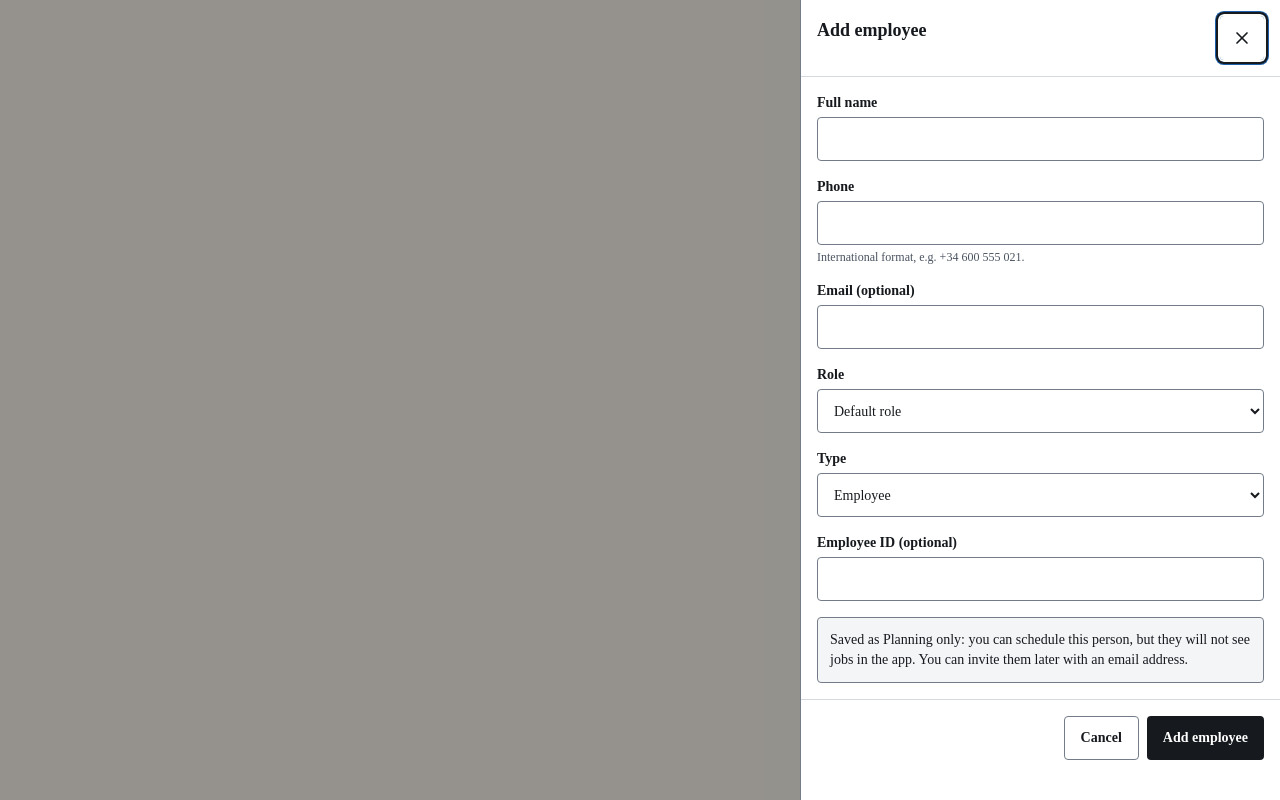
Add / Edit employee drawer: every API field error lands on its field (c769b0c5) › an email the API would refuse is refused before any request
The width and height of the screenshot is (1280, 800).
Type "Ana Pop" into the field labelled "Full name" at (1040, 139), box top-left (817, 117), bottom-right (1264, 161)
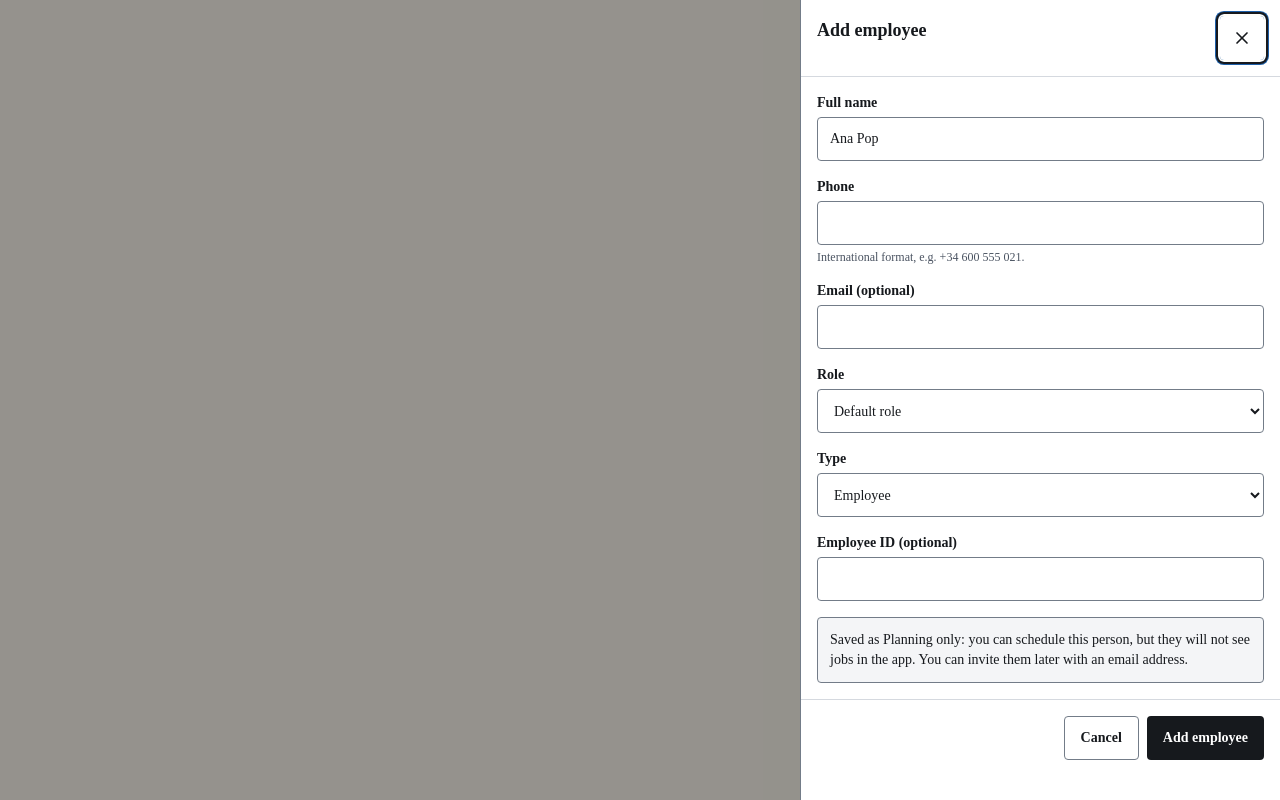
Type "ana@firma" into the field labelled "Email (optional)" at (1040, 327), box top-left (817, 305), bottom-right (1264, 349)
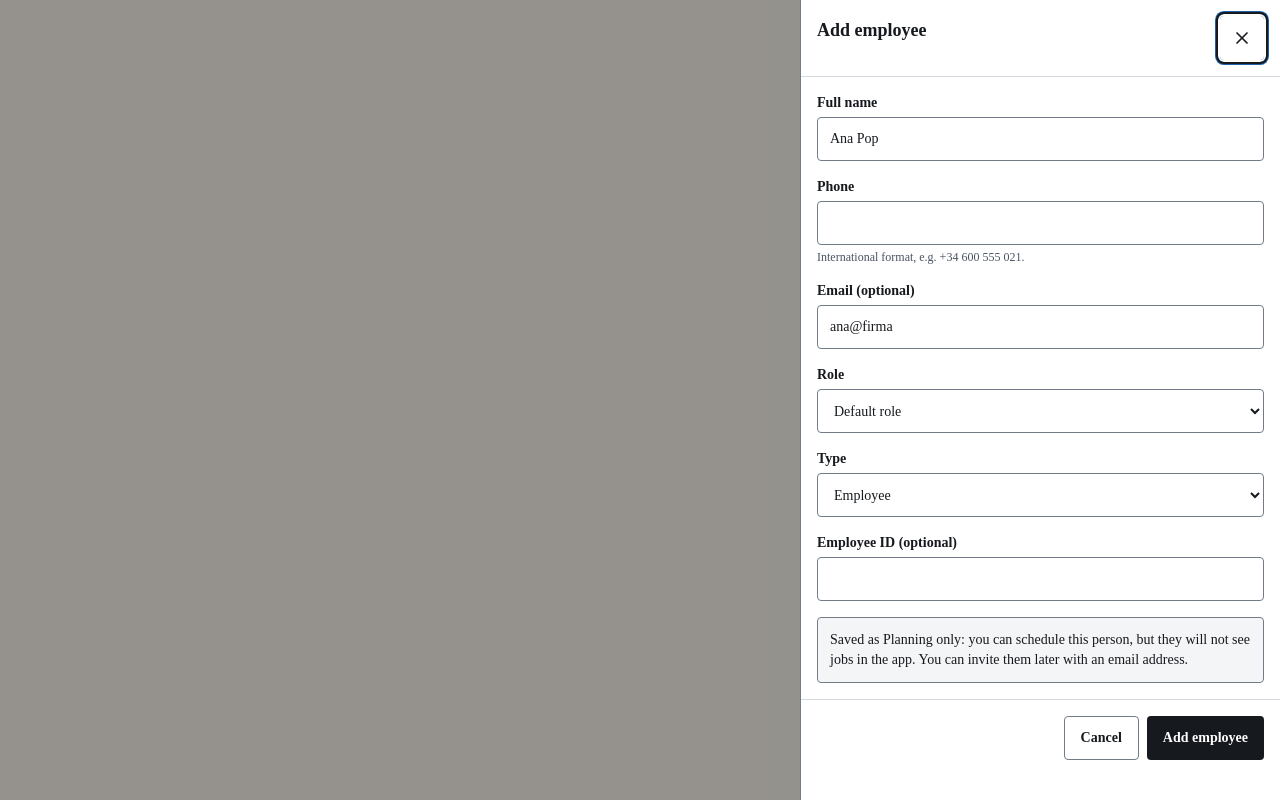
Click the button "Add employee" at (1205, 738), box top-left (1147, 716), bottom-right (1264, 760)
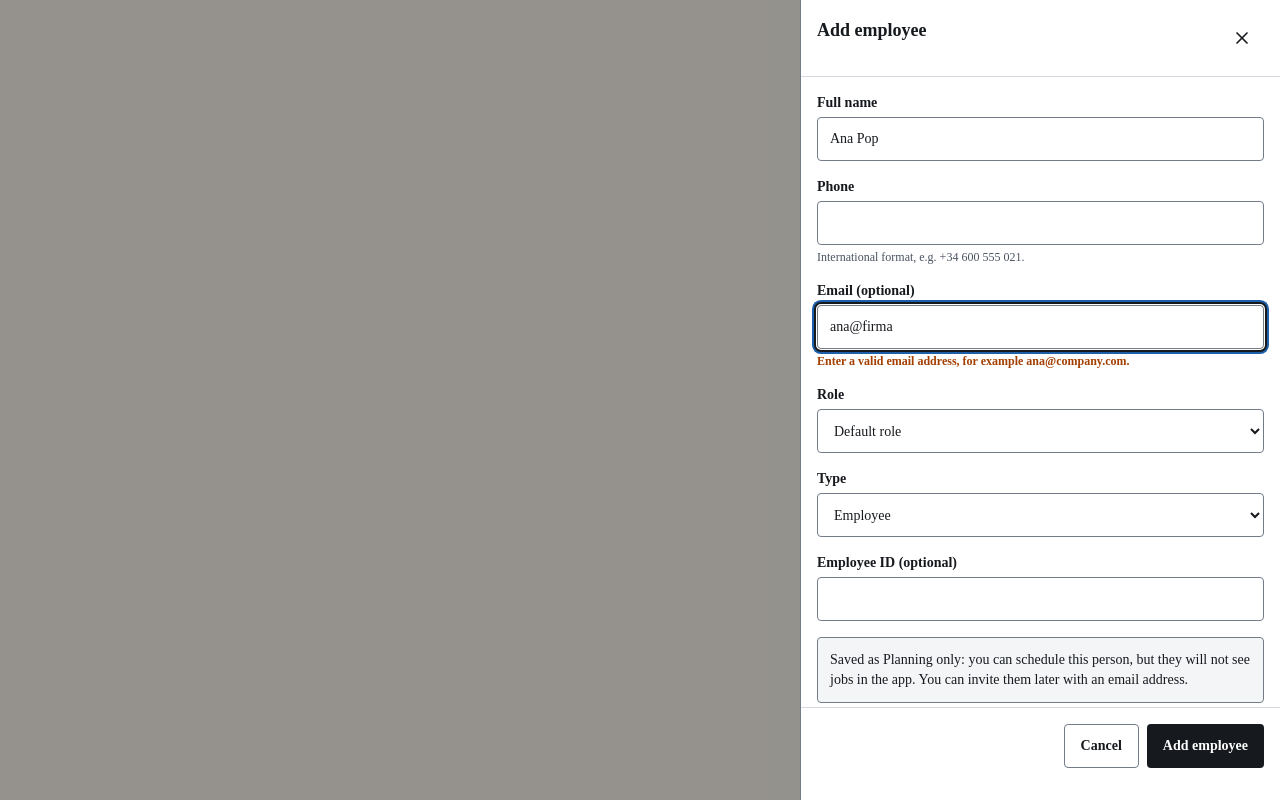
Result: the text "Enter a valid email address, for example ana@company.com." is shown at top-left (817, 354), bottom-right (1130, 368)
